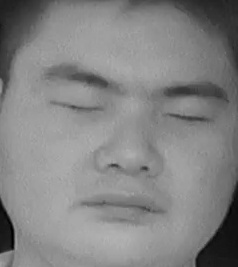blink: (46, 84, 103, 125), (166, 101, 211, 135)
mouth: (76, 179, 167, 229)
